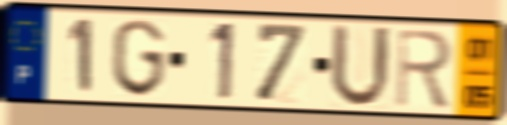1: (208, 19, 239, 104), (65, 16, 93, 97)
7: (255, 20, 310, 106)
G: (110, 17, 168, 100)
R: (393, 26, 455, 111)
U: (327, 21, 393, 112)
